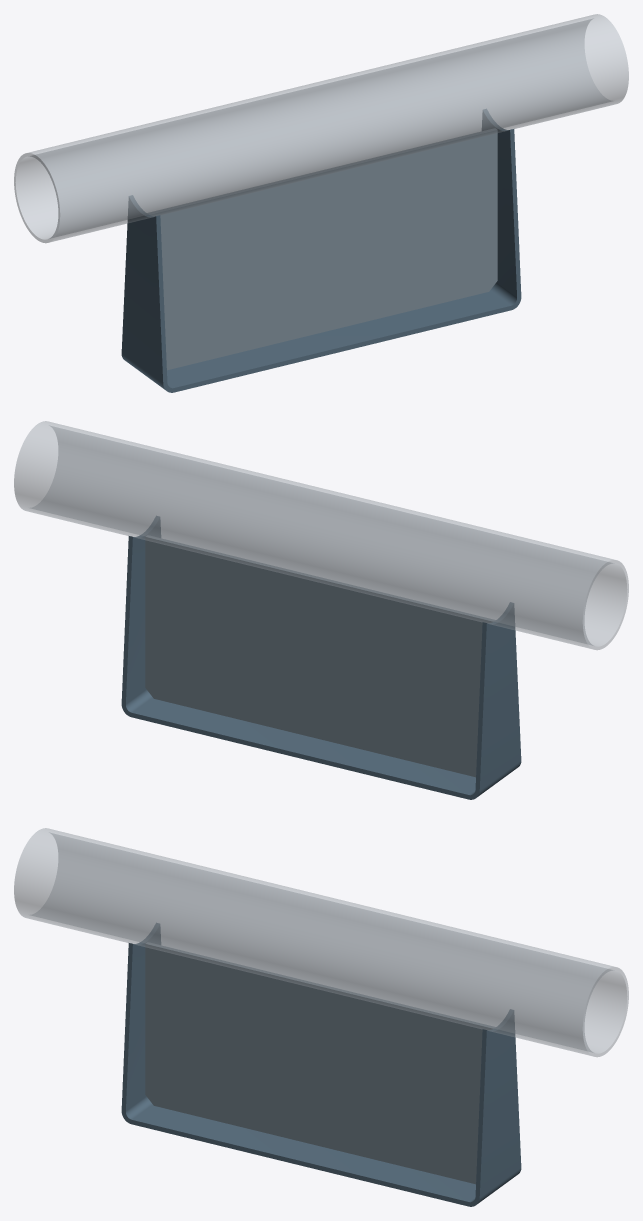
File: TS-623.000-16-opora-dn76-H150-L340.glb
3 views of the same model, one above another, from view 1: azimuth 30°, elevation 25°; view 2: azimuth 150°, elevation 25°; view 3: azimuth 330°, elevation 25° (orthographic).
Visible parts, largest first — view 1: truba, rebro, skoba; view 2: truba, rebro, skoba; view 3: truba, rebro, skoba.
Part boxes in pixels (x1,y1,x2,y2): truba: (14,14,628,243); rebro: (147,128,497,370); skoba: (121,109,521,392); truba: (14,421,628,650); rebro: (145,535,495,777); skoba: (121,516,521,799); truba: (14,828,628,1057); rebro: (145,942,495,1184); skoba: (121,923,521,1206).
Size of the model in its own units: 540 by 226 by 76.
